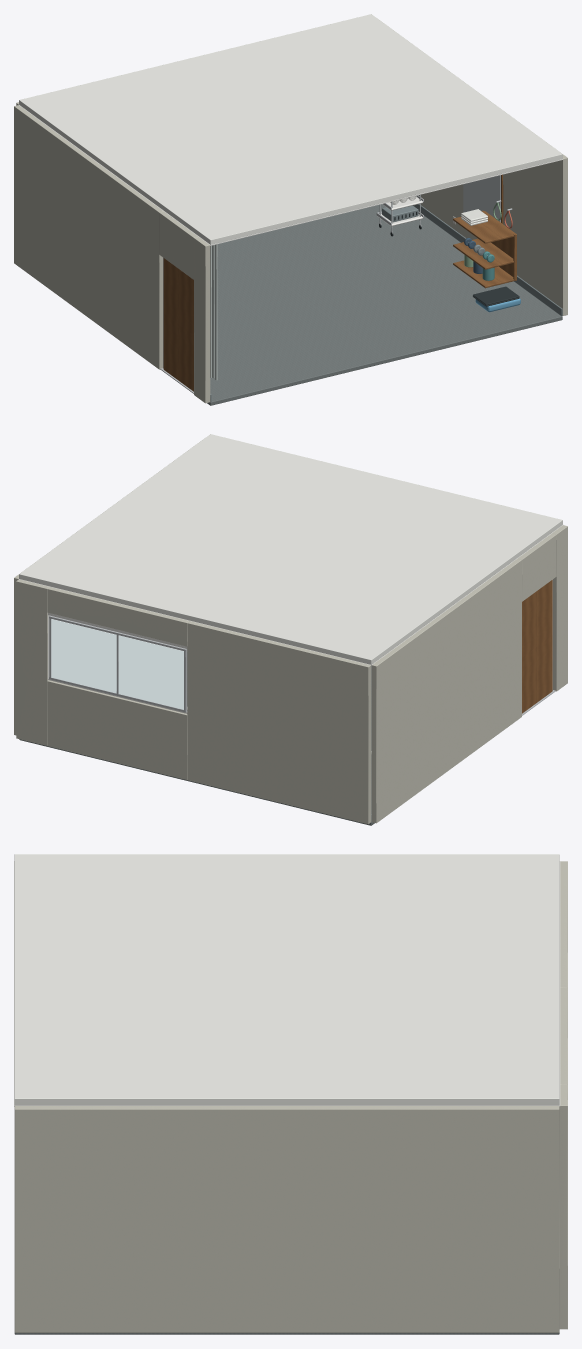
File: clinical-room-BQkYT7OC.glb
3 views of the same model, one above another, from view 1: azimuth 30°, elevation 25°; view 2: azimuth 150°, elevation 25°; view 3: azimuth 270°, elevation 25° (orthographic). The views are drawn at different scales.
Parts seen in each view (by area): view 1: ceiling | Runtime finish | roughness 0.8 | metal 0.0, floor | Sheet vinyl | mineral fleck | matte, wall_left | Warm off-white | washable eggshell, wall_right | Warm off-white | washable eggshell, wall_left | Oak | original baked grain | satin, floor | Oak | original baked grain | satin, wall_right | Runtime finish | roughness 0.1 | metal 1.0, wall_left | Runtime finish | roughness 1.0 | metal 0.0, floor | Runtime finish | roughness 0.7 | metal 0.0, wall_right | Runtime finish | roughness 0.5 | metal 0.0, ceiling | Runtime finish | roughness 0.4 | metal 0.0, floor | Runtime finish | roughness 0.5 | metal 0.0 (+1 smaller); view 2: ceiling | Runtime finish | roughness 0.8 | metal 0.0, wall_back | Warm off-white | washable eggshell, wall_left | Warm off-white | washable eggshell, wall_back | Frosted daylight window, wall_left | Oak | original baked grain | satin, wall_back | Runtime finish | roughness 0.4 | metal 0.8, wall_back | Runtime finish | roughness 0.4 | metal 0.0, floor | Sheet vinyl | mineral fleck | matte, ceiling | Runtime finish | roughness 0.4 | metal 0.0, wall_right | Warm off-white | washable eggshell; view 3: ceiling | Runtime finish | roughness 0.8 | metal 0.0, wall_right | Warm off-white | washable eggshell, wall_back | Warm off-white | washable eggshell, ceiling | Runtime finish | roughness 0.4 | metal 0.0, floor | Sheet vinyl | mineral fleck | matte.
Boxes of the visible parts, x1,y1,x2,y2 form: ceiling | Runtime finish | roughness 0.8 | metal 0.0: (19,14,562,244); floor | Sheet vinyl | mineral fleck | matte: (207,204,562,405); wall_left | Warm off-white | washable eggshell: (14,105,210,403); wall_right | Warm off-white | washable eggshell: (388,26,567,315); wall_left | Oak | original baked grain | satin: (163,258,193,391); floor | Oak | original baked grain | satin: (453,210,516,288); wall_right | Runtime finish | roughness 0.1 | metal 1.0: (463,175,500,222); wall_left | Runtime finish | roughness 1.0 | metal 0.0: (210,244,217,380); floor | Runtime finish | roughness 0.7 | metal 0.0: (379,202,519,306); wall_right | Runtime finish | roughness 0.5 | metal 0.0: (413,204,562,316); ceiling | Runtime finish | roughness 0.4 | metal 0.0: (19,105,563,245); floor | Runtime finish | roughness 0.5 | metal 0.0: (382,205,520,312); ceiling | Runtime finish | roughness 0.8 | metal 0.0: (19,434,562,664); wall_back | Warm off-white | washable eggshell: (16,579,371,824); wall_left | Warm off-white | washable eggshell: (371,525,567,823); wall_back | Frosted daylight window: (51,619,183,709); wall_left | Oak | original baked grain | satin: (522,580,552,713); wall_back | Runtime finish | roughness 0.4 | metal 0.8: (49,615,187,712); wall_back | Runtime finish | roughness 0.4 | metal 0.0: (48,613,187,713); floor | Sheet vinyl | mineral fleck | matte: (19,652,374,825); ceiling | Runtime finish | roughness 0.4 | metal 0.0: (19,525,562,665); wall_right | Warm off-white | washable eggshell: (14,446,193,735); ceiling | Runtime finish | roughness 0.8 | metal 0.0: (14,854,559,1105); wall_right | Warm off-white | washable eggshell: (14,1106,559,1332); wall_back | Warm off-white | washable eggshell: (559,861,567,1329); ceiling | Runtime finish | roughness 0.4 | metal 0.0: (14,861,560,1106); floor | Sheet vinyl | mineral fleck | matte: (14,1332,559,1334).
Size of the model in its own units: 7 by 3.06 by 6.51.
Materials: 18 (4 with a texture image).
